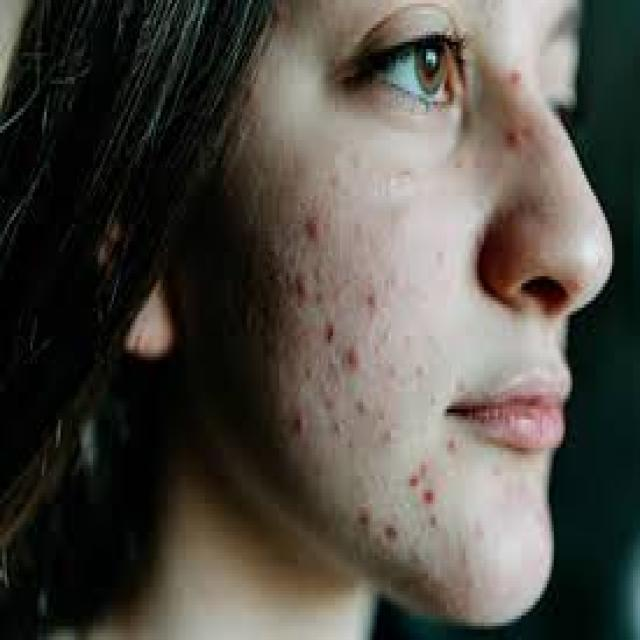Acne: (265, 187, 444, 551)
